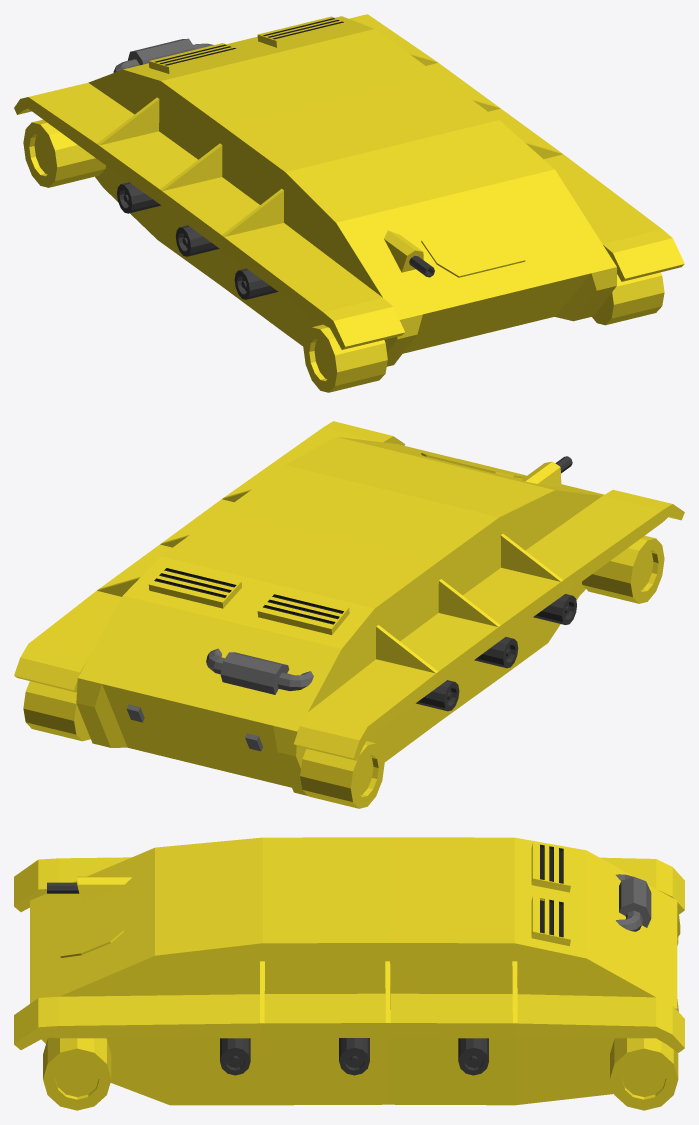
File: tankBody 1.fbx
3 views of the same model, one above another, from view 1: azimuth 30°, elevation 25°; view 2: azimuth 150°, elevation 25°; view 3: azimuth 270°, elevation 25° (orthographic).
Parts seen in each view (by area): view 1: Body.001; view 2: Body.001; view 3: Body.001.
Boxes of the visible parts, x1=… form: Body.001: x1=14, y1=14, x2=684, y2=392; Body.001: x1=14, y1=421, x2=684, y2=808; Body.001: x1=14, y1=837, x2=684, y2=1110.
Size of the model in its own units: 8.69 by 3.96 by 14.69.
